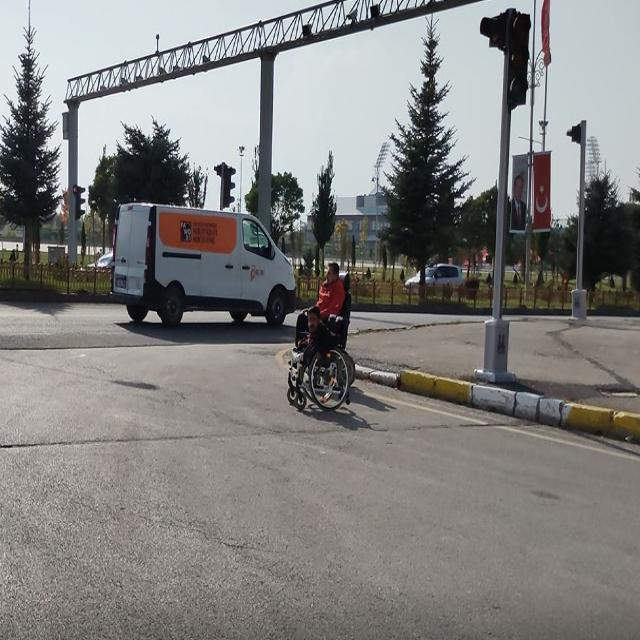wheelchairs: (299, 287, 356, 383), (284, 329, 348, 414)
